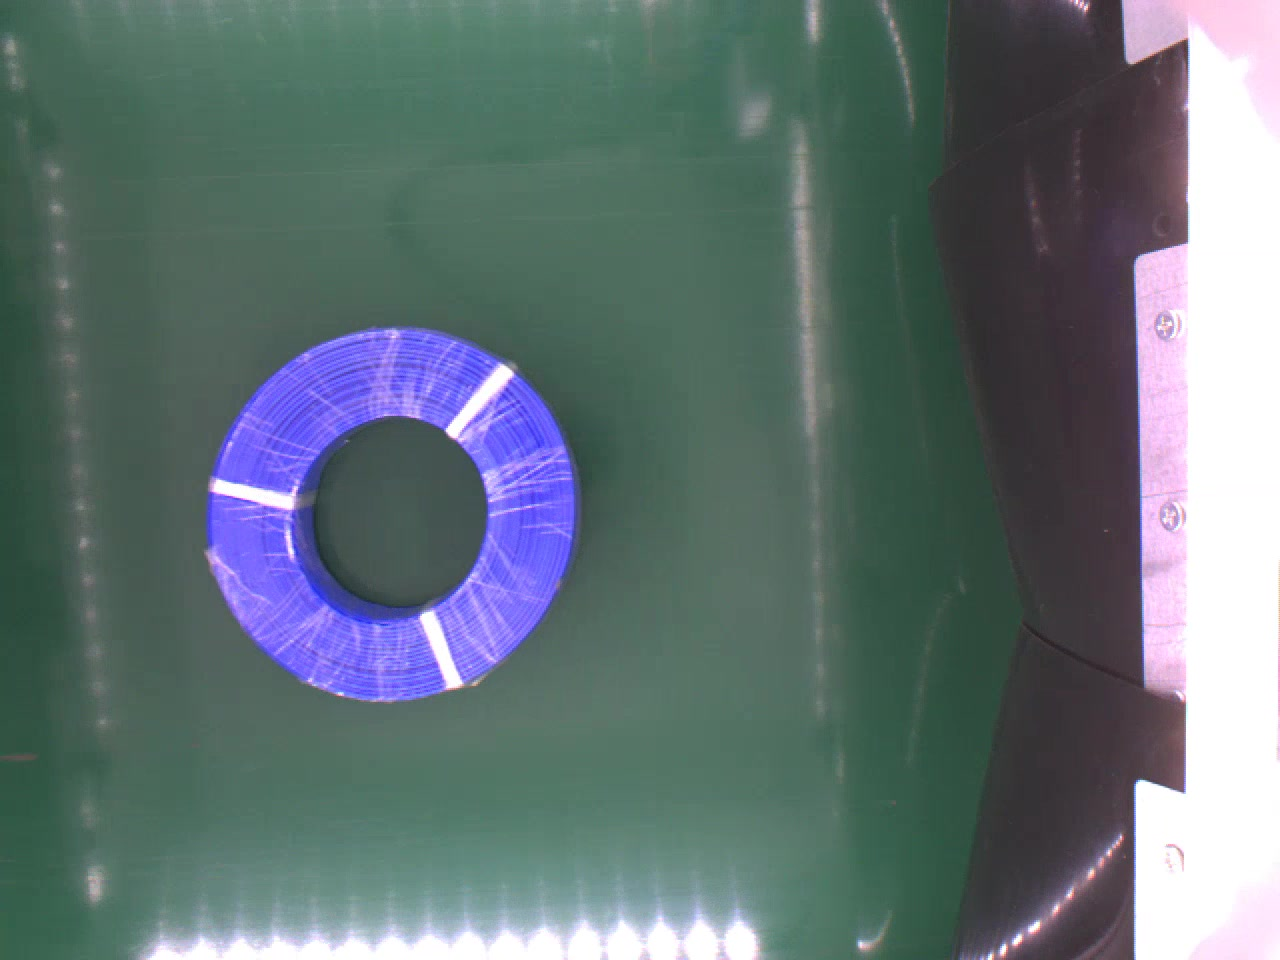blue: (195, 327, 585, 709)
